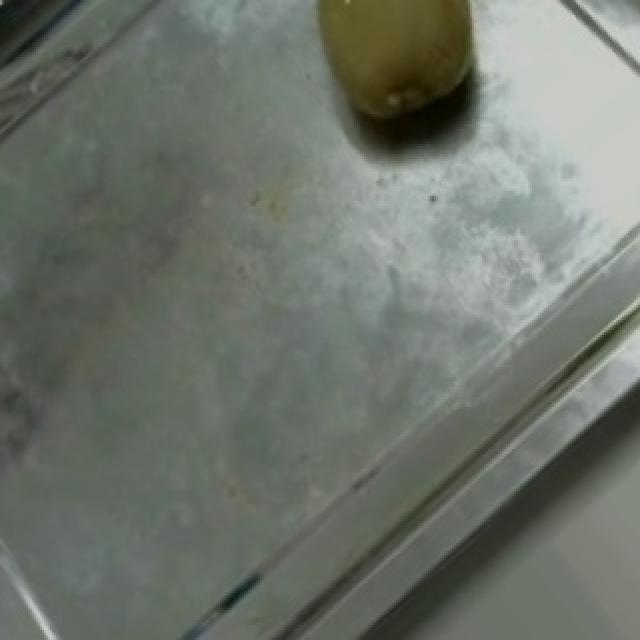Fruit: (276, 0, 514, 161)
